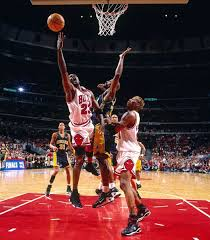ball: (46, 12, 65, 31)
hoop: (93, 1, 127, 35)
